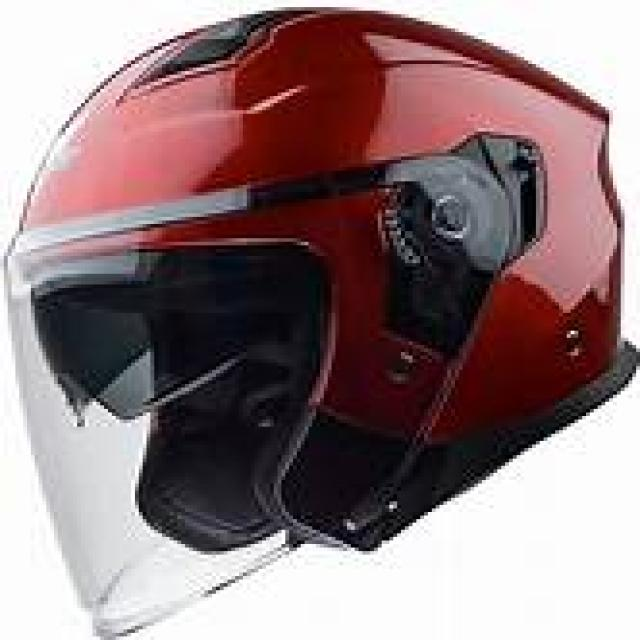helmet: (27, 7, 621, 633)
